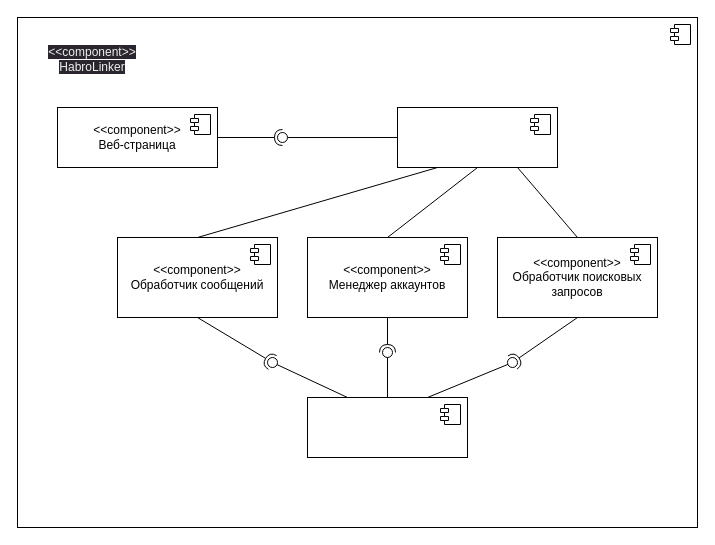
Some shapes in this 715 by 545 pixel diagram are drawn without their labels. Here are the shapes that lost their labels. From the top down, the centre of each, then its label:
At [477,137]: "<<component>> Бэкенд".
At [387,427]: "<<component>> СУБД PostgreSQL".
